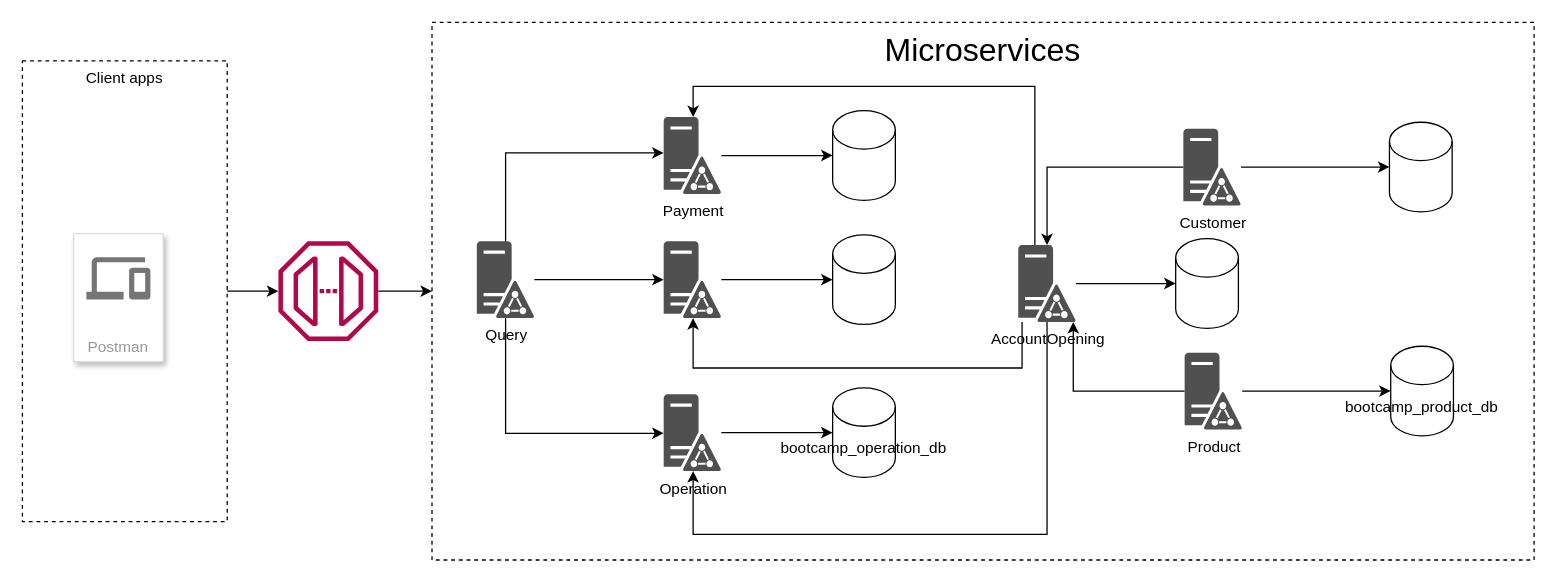
The diagram is 1556 pixels wide and 582 high, and some of its shapes have lost their labels. The shapes that lost their labels are listed below. From the top down, each one's centre as x and y in pixels, then its label:
At pixel 863 154: "bootcamp_payment_db".
At pixel 1420 166: "bootcamp_customer_db".
At pixel 328 290: "API Gateway".
At pixel 692 279: "Shopping".
At pixel 863 279: "bootcamp_shopping_db".
At pixel 1206 282: "bootcamp_customer_product_db".
